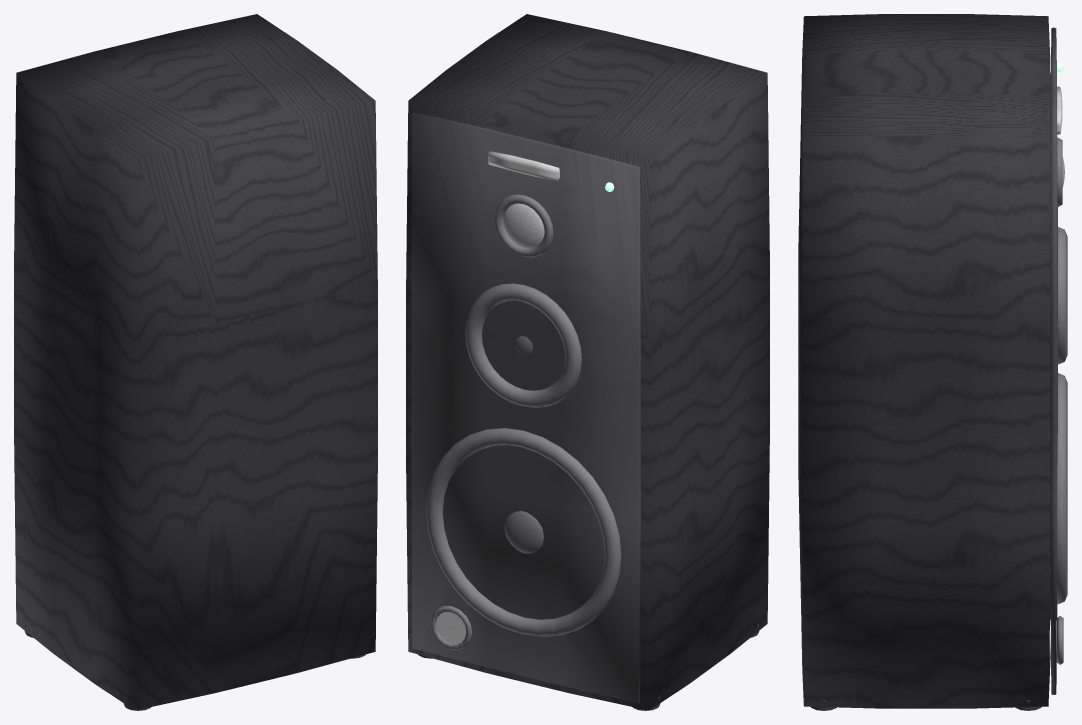
The model's file is speaker.glb.
3 views of the same model, side by side, from view 1: azimuth 30°, elevation 25°; view 2: azimuth 150°, elevation 25°; view 3: azimuth 270°, elevation 25° (orthographic). The views are drawn at different scales.
Visible parts, largest first — view 1: speaker_body; view 2: speaker_body; view 3: speaker_body.
Part boxes in pixels (box(x1,y1,x2,y2)): speaker_body: box(14, 14, 377, 710); speaker_body: box(406, 14, 769, 710); speaker_body: box(798, 14, 1067, 710).
Bounding box in the file's own units: 0.7 × 1.5 × 0.632.
Materials: 10 (9 with a texture image).
